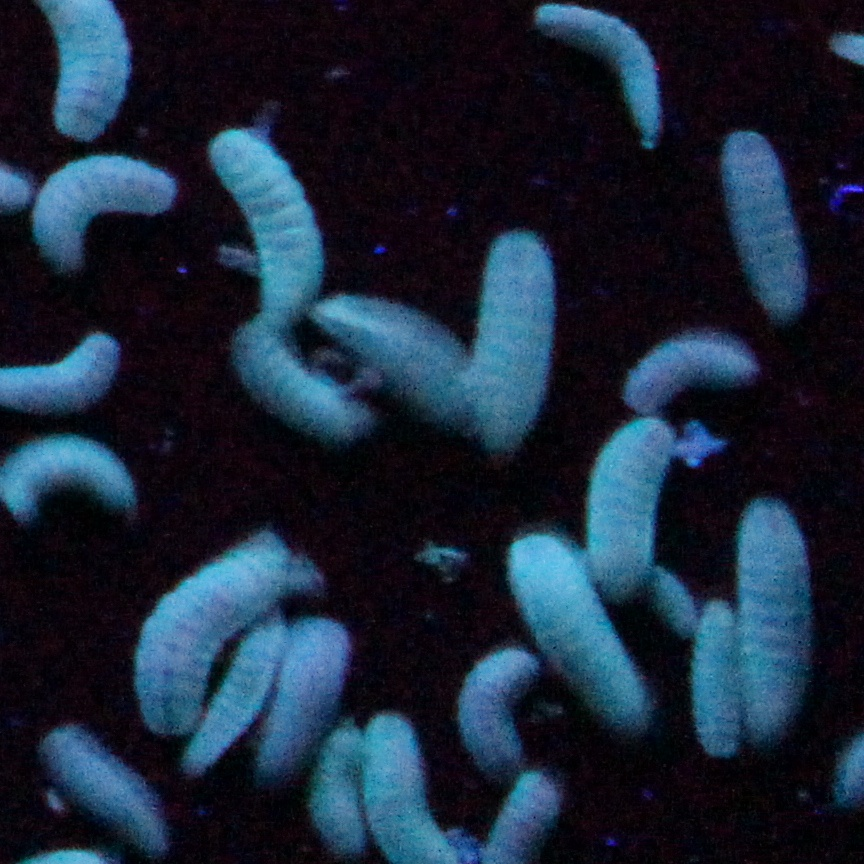larve: (134, 523, 310, 744), (495, 531, 656, 719), (304, 293, 479, 417), (715, 121, 811, 321), (539, 0, 665, 146), (219, 133, 321, 313), (589, 415, 689, 588), (18, 161, 177, 265), (739, 506, 806, 732), (190, 616, 289, 765), (242, 319, 354, 444), (449, 640, 542, 786), (265, 620, 352, 776), (44, 732, 165, 844), (490, 227, 548, 446), (624, 331, 755, 416), (690, 596, 753, 764), (4, 433, 131, 512), (311, 718, 360, 851)
